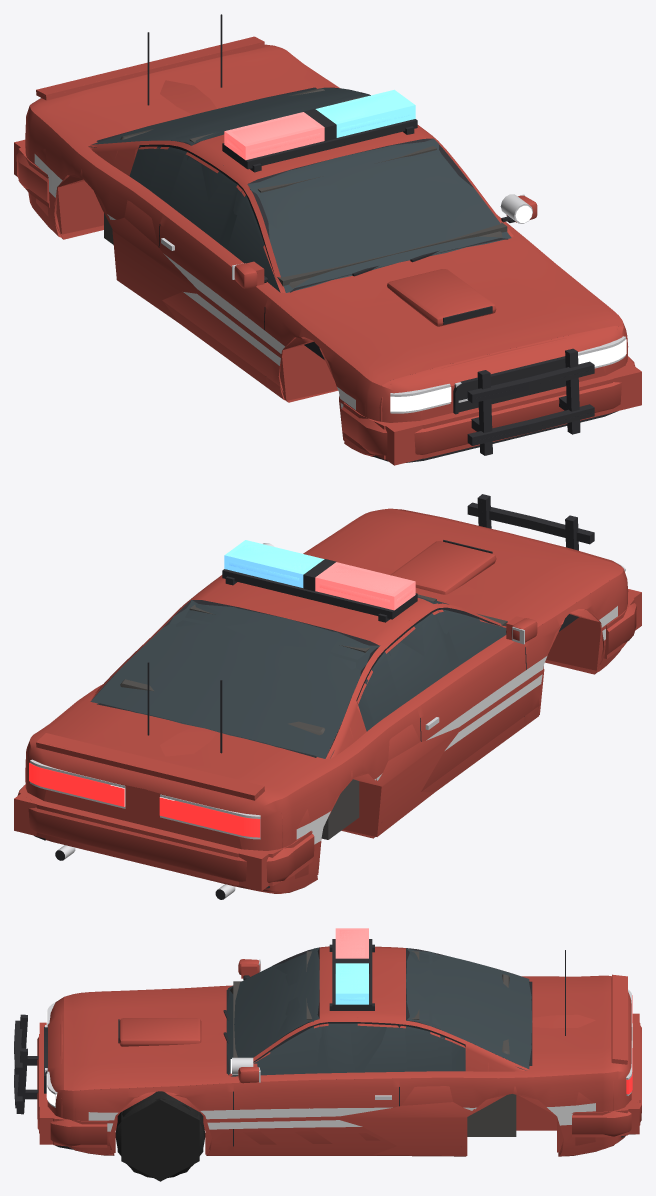
Rendered from coupe-police.glb.
3 renders of one model, top to bottom at view 1: azimuth 30°, elevation 25°; view 2: azimuth 150°, elevation 25°; view 3: azimuth 270°, elevation 25°, orthographic. The views are drawn at different scales.
Visible parts, largest first — view 1: lod0_body, lod1_body, lod0_hood, lod2_body, lod1_police, lod0_bumper_F, lod1_light_bar_a, lod0_police, lod1_light_bar_b, lod1_bumper_F, lod0_light_bar_b, lod1_hood (+5 smaller); view 2: lod0_body, lod1_body, lod2_body, lod0_hood, lod0_bumper_R, lod1_bumper_R, lod1_police, lod2_light_tail, lod1_light_bar_b, lod1_light_bar_a, lod0_light_bar_b, lod0_light_bar_a (+4 smaller); view 3: lod0_body, lod1_body, lod0_hood, lod2_body, lod0_door, lod1_door, lod2_wheel, lod0_bumper_F, lod0_bumper_R, lod1_police, lod1_light_bar_a, lod1_bumper_R (+8 smaller).
Part boxes in pixels (x1=…): lod0_body: x1=25, y1=37, x2=628, y2=455; lod1_body: x1=25, y1=36, x2=627, y2=456; lod0_hood: x1=275, y1=239, x2=623, y2=385; lod2_body: x1=14, y1=80, x2=641, y2=465; lod1_police: x1=247, y1=120, x2=594, y2=455; lod0_bumper_F: x1=341, y1=356, x2=635, y2=462; lod1_light_bar_a: x1=315, y1=89, x2=415, y2=137; lod0_police: x1=147, y1=14, x2=591, y2=450; lod1_light_bar_b: x1=224, y1=112, x2=324, y2=160; lod1_bumper_F: x1=343, y1=357, x2=634, y2=459; lod0_light_bar_b: x1=227, y1=115, x2=320, y2=154; lod1_hood: x1=301, y1=265, x2=617, y2=397; lod0_body: x1=25, y1=508, x2=628, y2=899; lod1_body: x1=36, y1=595, x2=625, y2=893; lod2_body: x1=14, y1=589, x2=641, y2=890; lod0_hood: x1=303, y1=508, x2=623, y2=627; lod0_bumper_R: x1=17, y1=786, x2=314, y2=889; lod1_bumper_R: x1=18, y1=784, x2=312, y2=885; lod1_police: x1=222, y1=494, x2=594, y2=619; lod2_light_tail: x1=40, y1=768, x2=243, y2=835; lod1_light_bar_b: x1=315, y1=562, x2=415, y2=610; lod1_light_bar_a: x1=224, y1=540, x2=324, y2=587; lod0_light_bar_b: x1=319, y1=565, x2=412, y2=604; lod0_light_bar_a: x1=229, y1=543, x2=317, y2=582; lod0_body: x1=44, y1=946, x2=635, y2=1155; lod1_body: x1=45, y1=947, x2=627, y2=1156; lod0_hood: x1=64, y1=986, x2=222, y2=1090; lod2_body: x1=39, y1=948, x2=639, y2=1155; lod0_door: x1=233, y1=1022, x2=399, y2=1154; lod1_door: x1=233, y1=1021, x2=399, y2=1155; lod2_wheel: x1=121, y1=1098, x2=199, y2=1181; lod0_bumper_F: x1=37, y1=1037, x2=107, y2=1149; lod0_bumper_R: x1=572, y1=1017, x2=641, y2=1137; lod1_police: x1=14, y1=1014, x2=38, y2=1114; lod1_light_bar_a: x1=335, y1=963, x2=368, y2=1004; lod1_bumper_R: x1=572, y1=1017, x2=640, y2=1137.
Size of the model in its own units: 2.02 by 1.4 by 4.73.
